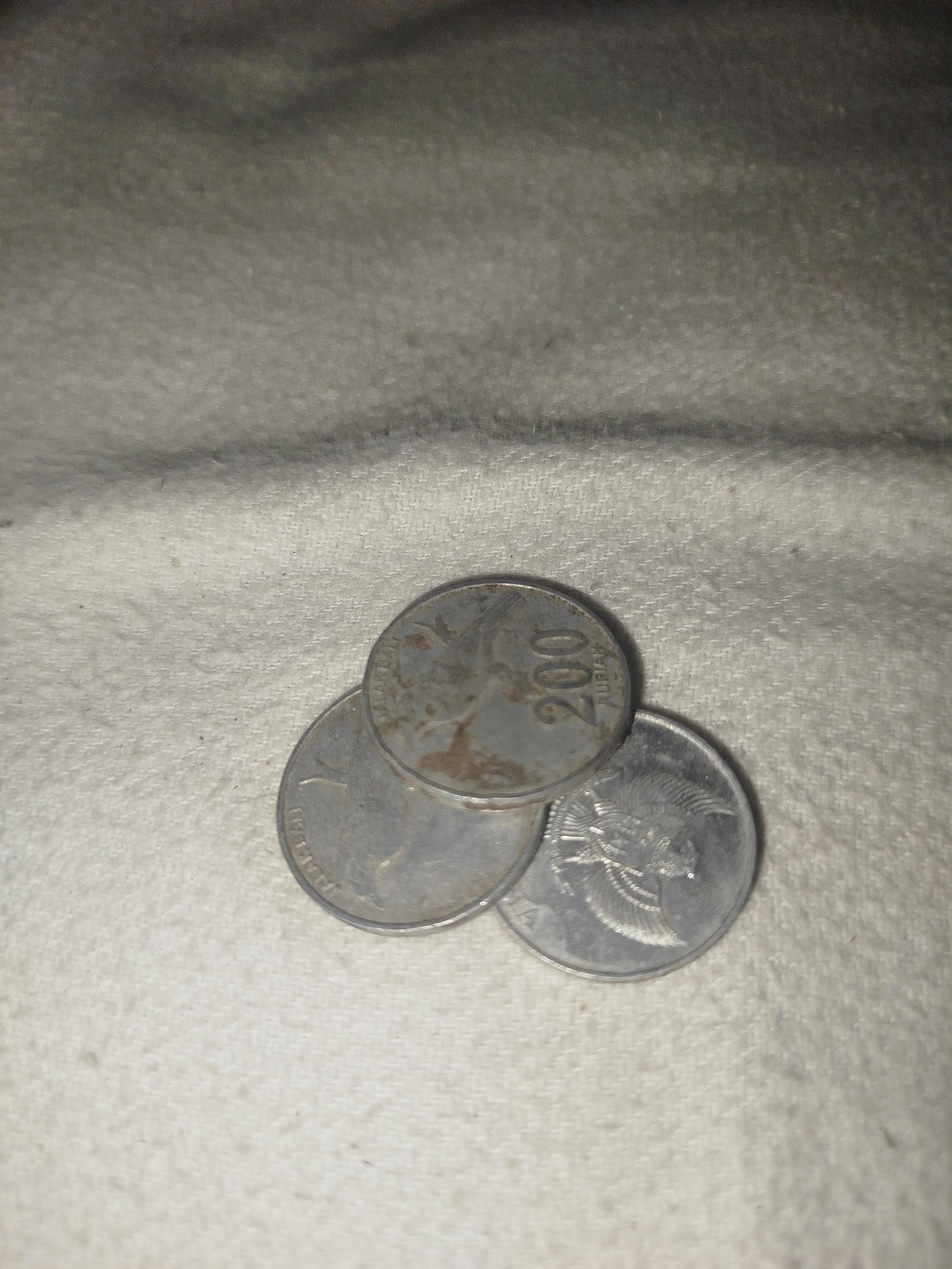coin_200_e2003: (481, 710, 765, 982), (273, 681, 546, 936), (357, 570, 643, 793)
